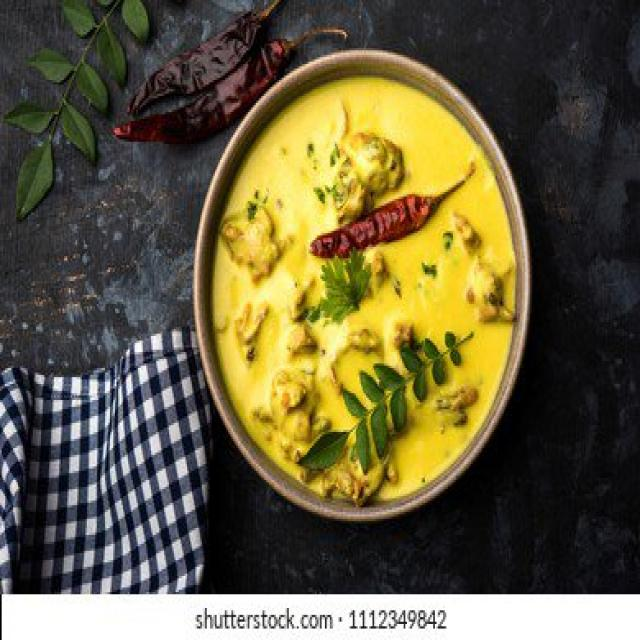Kadhi Pakora: (212, 70, 517, 504)
